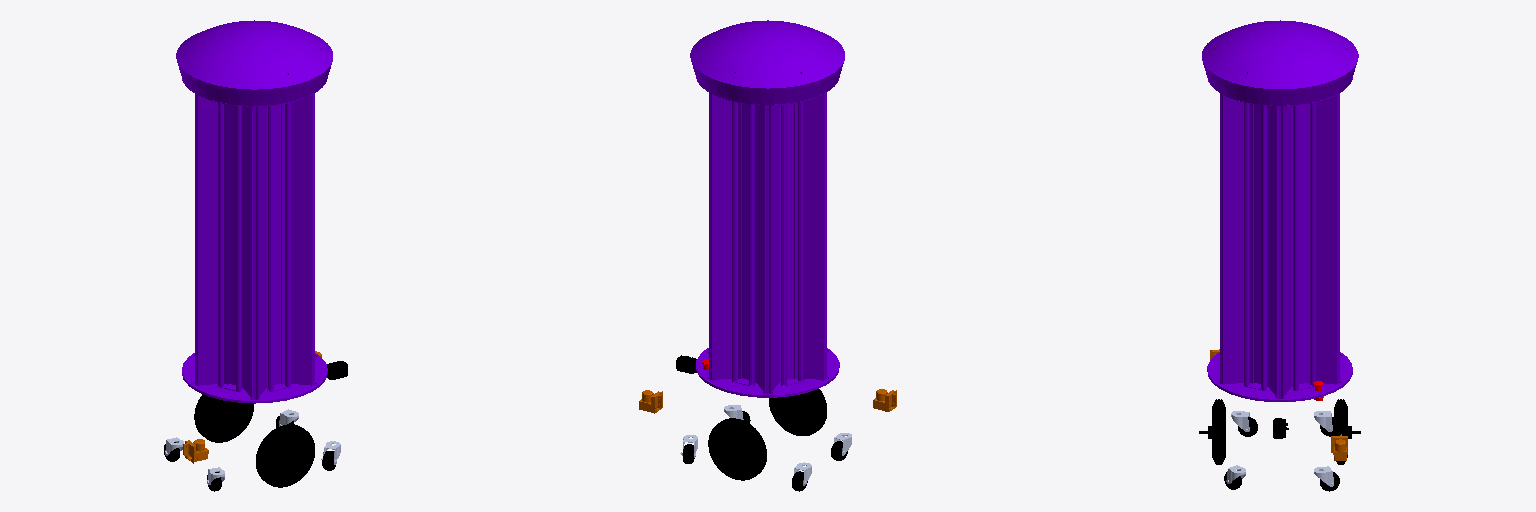
The robot description file, URDF, robot "urdf_udr_new_double":
<?xml version="1.0" encoding="utf-8"?>
<!-- This URDF was automatically created by SolidWorks to URDF Exporter! Originally created by [author] ([email redacted]) 
     Commit Version: 1.6.0-4-g7f85cfe  Build Version: 1.6.7995.38578
     For more information, please see http://wiki.ros.org/sw_urdf_exporter -->
<robot
  name="urdf_udr_new_double">
  <link
    name="base_link">
    <inertial>
      <origin
        xyz="0.0624291020769032 0.00468499263288874 0.20887348548324"
        rpy="0 0 0" />
      <mass
        value="22.1412579270583" />
      <inertia
        ixx="0.18465288175653"
        ixy="0.000675486824204511"
        ixz="0.000305317691505359"
        iyy="0.305765297745516"
        iyz="0.000871255240849521"
        izz="0.348391182314599" />
    </inertial>
    <visual>
      <origin
        xyz="0 0 0"
        rpy="0 0 0" />
      <geometry>
        <mesh
          filename="package://urdf_udr_new/meshes/base_link.STL" />
      </geometry>
      <material
        name="">
        <color
          rgba="1 1 1 1" />
      </material>
    </visual>
    <collision>
      <origin
        xyz="0 0 0"
        rpy="0 0 0" />
      <geometry>
        <mesh
          filename="package://urdf_udr_new/meshes/base_link.STL" />
      </geometry>
    </collision>
  </link>
  <link
    name="right_w">
    <inertial>
      <origin
        xyz="9.67362365766888E-08 1.17905379348748E-07 0.0385837302520066"
        rpy="0 0 0" />
      <mass
        value="1.24321467663058" />
      <inertia
        ixx="0.00585956075891878"
        ixy="-1.45942223109445E-07"
        ixz="-2.85200563415298E-11"
        iyy="0.00586012079868719"
        iyz="-1.33711172719354E-10"
        izz="0.0113529476510367" />
    </inertial>
    <visual>
      <origin
        xyz="0 0 0"
        rpy="0 0 0" />
      <geometry>
        <mesh
          filename="package://urdf_udr_new/meshes/right_w.STL" />
      </geometry>
      <material
        name="">
        <color
          rgba="0 0 0 1" />
      </material>
    </visual>
    <collision>
      <origin
        xyz="0 0 0"
        rpy="0 0 0" />
      <geometry>
        <mesh
          filename="package://urdf_udr_new/meshes/right_w.STL" />
      </geometry>
    </collision>
  </link>
  <joint
    name="J1"
    type="continuous">
    <origin
      xyz="0 -0.2698 0.12375"
      rpy="-1.5708 0 0" />
    <parent
      link="base_link" />
    <child
      link="right_w" />
    <axis
      xyz="0 0 -1" />
    <limit
      lower="0"
      upper="0"
      effort="200"
      velocity="100" />
  </joint>
  <link
    name="Left_w">
    <inertial>
      <origin
        xyz="1.4918892421445E-07 3.16596061034069E-08 0.0385837198112248"
        rpy="0 0 0" />
      <mass
        value="1.24321559312545" />
      <inertia
        ixx="0.00585963665255297"
        ixy="2.42910236931348E-07"
        ixz="-1.05800394651528E-10"
        iyy="0.00586004517577023"
        iyz="-8.66216355527152E-11"
        izz="0.0113529479149376" />
    </inertial>
    <visual>
      <origin
        xyz="0 0 0"
        rpy="0 0 0" />
      <geometry>
        <mesh
          filename="package://urdf_udr_new/meshes/Left_w.STL" />
      </geometry>
      <material
        name="">
        <color
          rgba="0 0 0 1" />
      </material>
    </visual>
    <collision>
      <origin
        xyz="0 0 0"
        rpy="0 0 0" />
      <geometry>
        <mesh
          filename="package://urdf_udr_new/meshes/Left_w.STL" />
      </geometry>
    </collision>
  </link>
  <joint
    name="J2"
    type="continuous">
    <origin
      xyz="0 0.27 0.12375"
      rpy="1.5708 0 0" />
    <parent
      link="base_link" />
    <child
      link="Left_w" />
    <axis
      xyz="0 0 -1" />
    <limit
      lower="0"
      upper="0"
      effort="200"
      velocity="100" />
  </joint>
  <link
    name="FLC">
    <inertial>
      <origin
        xyz="0.0145525050938536 0.00506500635692475 -0.0211088701906772"
        rpy="0 0 0" />
      <mass
        value="0.0210798091970502" />
      <inertia
        ixx="1.40856058366616E-05"
        ixy="6.73713319650777E-07"
        ixz="2.53769484133454E-06"
        iyy="1.2246722522495E-05"
        iyz="8.28405543332318E-07"
        izz="1.53665692142578E-05" />
    </inertial>
    <visual>
      <origin
        xyz="0 0 0"
        rpy="0 0 0" />
      <geometry>
        <mesh
          filename="package://urdf_udr_new/meshes/FLC.STL" />
      </geometry>
      <material
        name="">
        <color
          rgba="0.792156862745098 0.819607843137255 0.933333333333333 1" />
      </material>
    </visual>
    <collision>
      <origin
        xyz="0 0 0"
        rpy="0 0 0" />
      <geometry>
        <mesh
          filename="package://urdf_udr_new/meshes/FLC.STL" />
      </geometry>
    </collision>
  </link>
  <joint
    name="J3"
    type="continuous">
    <origin
      xyz="0.25 0.155 0.08145"
      rpy="0 0 1.5708" />
    <parent
      link="base_link" />
    <child
      link="FLC" />
    <axis
      xyz="0 0 -1" />
    <limit
      lower="0"
      upper="0"
      effort="0"
      velocity="0" />
  </joint>
  <link
    name="FLW">
    <inertial>
      <origin
        xyz="-2.00817450446422E-08 3.67723573257983E-08 -0.020499956881868"
        rpy="0 0 0" />
      <mass
        value="0.15374218752625" />
      <inertia
        ixx="6.77250647496595E-05"
        ixy="4.49120161059612E-11"
        ixz="4.32369909477939E-11"
        iyy="6.77250109638679E-05"
        iyz="-7.9153691267831E-11"
        izz="0.000102217238167678" />
    </inertial>
    <visual>
      <origin
        xyz="0 0 0"
        rpy="0 0 0" />
      <geometry>
        <mesh
          filename="package://urdf_udr_new/meshes/FLW.STL" />
      </geometry>
      <material
        name="">
        <color
          rgba="0 0 0 1" />
      </material>
    </visual>
    <collision>
      <origin
        xyz="0 0 0"
        rpy="0 0 0" />
      <geometry>
        <mesh
          filename="package://urdf_udr_new/meshes/FLW.STL" />
      </geometry>
    </collision>
  </link>
  <joint
    name="J4"
    type="continuous">
    <origin
      xyz="0.039294 -0.0087218 -0.0505"
      rpy="1.5708 0 0.31596" />
    <parent
      link="FLC" />
    <child
      link="FLW" />
    <axis
      xyz="0 0 -1" />
    <limit
      effort="0"
      velocity="0" />
  </joint>
  <link
    name="FRC">
    <inertial>
      <origin
        xyz="-0.00973565071117044 -0.0119432082364628 0.021108776977357"
        rpy="0 0 0" />
      <mass
        value="0.0210797647006809" />
      <inertia
        ixx="1.28947314306233E-05"
        ixy="1.10708285754622E-06"
        ixz="1.64618210253521E-06"
        iyy="1.34374615727984E-05"
        iyz="2.10145227566228E-06"
        izz="1.5366483276365E-05" />
    </inertial>
    <visual>
      <origin
        xyz="0 0 0"
        rpy="0 0 0" />
      <geometry>
        <mesh
          filename="package://urdf_udr_new/meshes/FRC.STL" />
      </geometry>
      <material
        name="">
        <color
          rgba="0.792156862745098 0.819607843137255 0.933333333333333 1" />
      </material>
    </visual>
    <collision>
      <origin
        xyz="0 0 0"
        rpy="0 0 0" />
      <geometry>
        <mesh
          filename="package://urdf_udr_new/meshes/FRC.STL" />
      </geometry>
    </collision>
  </link>
  <joint
    name="J5"
    type="continuous">
    <origin
      xyz="0.25 -0.155 0.08095"
      rpy="3.1416 0 1.5708" />
    <parent
      link="base_link" />
    <child
      link="FRC" />
    <axis
      xyz="0 0 -1" />
    <limit
      lower="0"
      upper="0"
      effort="0"
      velocity="0" />
  </joint>
  <link
    name="FRW">
    <inertial>
      <origin
        xyz="-4.17871743318976E-08 -3.05201877659478E-09 -0.020499956881867"
        rpy="0 0 0" />
      <mass
        value="0.15374218752625" />
      <inertia
        ixx="6.7724986330089E-05"
        ixy="-9.23681946444026E-12"
        ixz="8.99525470081407E-11"
        iyy="6.77250893834385E-05"
        iyz="6.57902112448154E-12"
        izz="0.000102217238167678" />
    </inertial>
    <visual>
      <origin
        xyz="0 0 0"
        rpy="0 0 0" />
      <geometry>
        <mesh
          filename="package://urdf_udr_new/meshes/FRW.STL" />
      </geometry>
      <material
        name="">
        <color
          rgba="0 0 0 1" />
      </material>
    </visual>
    <collision>
      <origin
        xyz="0 0 0"
        rpy="0 0 0" />
      <geometry>
        <mesh
          filename="package://urdf_udr_new/meshes/FRW.STL" />
      </geometry>
    </collision>
  </link>
  <joint
    name="J6"
    type="continuous">
    <origin
      xyz="-0.0052407 -0.039908 0.0505"
      rpy="1.5708 0 0.90585" />
    <parent
      link="FRC" />
    <child
      link="FRW" />
    <axis
      xyz="0 0 -1" />
    <limit
      effort="0"
      velocity="0" />
  </joint>
  <link
    name="RLC">
    <inertial>
      <origin
        xyz="0.0154061714072432 0.000292385443586451 -0.021108962602837"
        rpy="0 0 0" />
      <mass
        value="0.0210797682567391" />
      <inertia
        ixx="1.43059835869212E-05"
        ixy="5.02766015790456E-10"
        ixz="2.66950767028971E-06"
        iyy="1.20263715927633E-05"
        iyz="-1.13213563799207E-09"
        izz="1.53665753331142E-05" />
    </inertial>
    <visual>
      <origin
        xyz="0 0 0"
        rpy="0 0 0" />
      <geometry>
        <mesh
          filename="package://urdf_udr_new/meshes/RLC.STL" />
      </geometry>
      <material
        name="">
        <color
          rgba="0.792156862745098 0.819607843137255 0.933333333333333 1" />
      </material>
    </visual>
    <collision>
      <origin
        xyz="0 0 0"
        rpy="0 0 0" />
      <geometry>
        <mesh
          filename="package://urdf_udr_new/meshes/RLC.STL" />
      </geometry>
    </collision>
  </link>
  <joint
    name="J7"
    type="continuous">
    <origin
      xyz="-0.25 0.155 0.08145"
      rpy="0 0 1.5708" />
    <parent
      link="base_link" />
    <child
      link="RLC" />
    <axis
      xyz="0 0 -1" />
    <limit
      lower="0"
      upper="0"
      effort="0"
      velocity="0" />
  </joint>
  <link
    name="RLW">
    <inertial>
      <origin
        xyz="-2.01015006584537E-08 3.6808518427689E-08 -0.0204999568534652"
        rpy="0 0 0" />
      <mass
        value="0.153742188024696" />
      <inertia
        ixx="6.77250649206974E-05"
        ixy="4.4956175005754E-11"
        ixz="4.32688632504499E-11"
        iyy="6.77250110820167E-05"
        iyz="-7.92120410786504E-11"
        izz="0.000102217238364983" />
    </inertial>
    <visual>
      <origin
        xyz="0 0 0"
        rpy="0 0 0" />
      <geometry>
        <mesh
          filename="package://urdf_udr_new/meshes/RLW.STL" />
      </geometry>
      <material
        name="">
        <color
          rgba="0 0 0 1" />
      </material>
    </visual>
    <collision>
      <origin
        xyz="0 0 0"
        rpy="0 0 0" />
      <geometry>
        <mesh
          filename="package://urdf_udr_new/meshes/RLW.STL" />
      </geometry>
    </collision>
  </link>
  <joint
    name="J8"
    type="continuous">
    <origin
      xyz="0.034639 -0.0205 -0.0505"
      rpy="1.5708 0 0" />
    <parent
      link="RLC" />
    <child
      link="RLW" />
    <axis
      xyz="0 0 -1" />
    <limit
      effort="0"
      velocity="0" />
  </joint>
  <link
    name="RRC">
    <inertial>
      <origin
        xyz="0.015278775331827 0.00199752634308409 0.0211089019647416"
        rpy="0 0 0" />
      <mass
        value="0.0210797183012524" />
      <inertia
        ixx="1.42558670089239E-05"
        ixy="3.34023871060435E-07"
        ixz="-2.63975284592552E-06"
        iyy="1.20763655609628E-05"
        iyz="-3.97359188536282E-07"
        izz="1.53664914572821E-05" />
    </inertial>
    <visual>
      <origin
        xyz="0 0 0"
        rpy="0 0 0" />
      <geometry>
        <mesh
          filename="package://urdf_udr_new/meshes/RRC.STL" />
      </geometry>
      <material
        name="">
        <color
          rgba="0.792156862745098 0.819607843137255 0.933333333333333 1" />
      </material>
    </visual>
    <collision>
      <origin
        xyz="0 0 0"
        rpy="0 0 0" />usion of an arbitrary number of sensors. The nodes do not restrict the number of input sources. If, for example, your robot has multiple IMUs or multiple sources of odometry information, the state estimation nodes within robot_localization can support all of them.
      <geometry>
        <mesh
          filename="package://urdf_udr_new/meshes/RRC.STL" />
      </geometry>
    </collision>
  </link>
  <joint
    name="J9"
    type="continuous">
    <origin
      xyz="-0.25 -0.155 0.08245"
      rpy="3.1416 0 1.5708" />
    <parent
      link="base_link" />
    <child
      link="RRC" />
    <axis
      xyz="0 0 -1" />
    <limit
      lower="0"
      upper="0"
      effort="0"
      velocity="0" />
  </joint>
  <link
    name="RRW">
    <inertial>
      <origin
        xyz="-4.17871744429199E-08 -3.05201883210593E-09 0.0205000431181329"
        rpy="0 0 0" />
      <mass
        value="0.15374218752625" />
      <inertia
        ixx="6.7724986330089E-05"
        ixy="-9.23681952510909E-12"
        ixz="8.99525469488484E-11"
        iyy="6.77250893834383E-05"
        iyz="6.57902115533585E-12"
        izz="0.000102217238167678" />
    </inertial>
    <visual>
      <origin
        xyz="0 0 0"
        rpy="0 0 0" />
      <geometry>
        <mesh
          filename="package://urdf_udr_new/meshes/RRW.STL" />
      </geometry>
      <material
        name="">
        <color
          rgba="0 0 0 1" />
      </material>
    </visual>
    <collision>
      <origin
        xyz="0 0 0"
        rpy="0 0 0" />
      <geometry>
        <mesh
          filename="package://urdf_udr_new/meshes/RRW.STL" />
      </geometry>
    </collision>
  </link>
  <joint
    name="J10"
    type="continuous">
    <origin
      xyz="0.031213 0.025414 0.0505"
      rpy="1.5708 0 0.14897" />
    <parent
      link="RRC" />
    <child
      link="RRW" />
    <axis
      xyz="0 0 -1" />
    <limit
      effort="0"
      velocity="0" />
  </joint>
  <link
    name="ce30c_lidar">
    <inertial>
      <origin
        xyz="0.3526 -8.6168E-05 0.30373"
        rpy="0 0 0" />
      <mass
        value="0.16636" />
      <inertia
        ixx="0.00011326"
        ixy="-3.7341E-07"
        ixz="9.1676E-07"
        iyy="5.92E-05"
        iyz="3.6162E-08"
        izz="0.00011283" />
    </inertial>
    <visual>
      <origin
        xyz="-0.3526 8.6168E-05 -0.30373"
        rpy="0 0 0" />
      <geometry>
        <mesh
          filename="package://urdf_udr_new/meshes/3DLDR.STL" />
      </geometry>
      <material
        name="">
        <color
          rgba="0 0 0 1" />
      </material>
    </visual>
    <collision>
      <origin
        xyz="0 0 0"
        rpy="0 0 0" />
      <geometry>
        <mesh
          filename="package://urdf_udr_new/meshes/3DLDR.STL" />
      </geometry>
    </collision>
  </link>
  <joint
    name="J11"
    type="fixed">
    <origin
      xyz="0.3526 -8.6168E-05 0.30373"
      rpy="0 0 -1.5708" />
    <parent
      link="base_link" />
    <child
      link="ce30c_lidar" />
    <axis
      xyz="0.3526 -8.6168E-05 0.30373" />
  </joint>
  <link
    name="laser1">
    <inertial>
      <origin
        xyz="0.38368 0.22785 0.23437"
        rpy="0 0 0" />
      <mass
        value="0.20388" />
      <inertia
        ixx="0.00011527"
        ixy="7.2568E-08"
        ixz="2.8099E-06"
        iyy="0.00010383"
        iyz="-3.1905E-07"
        izz="6.9615E-05" />
    </inertial>
    <visual>
      <origin
        xyz="-0.38368 -0.22785 -0.23437"
        rpy="0 0 0" />
      <geometry>
        <mesh
          filename="package://urdf_udr_new/meshes/F2DLDR.STL" />
      </geometry>
      <material
        name="">
        <color
          rgba="0.8 0.4 0 1" />
      </material>
    </visual>
    <collision>
      <origin
        xyz="0 0 0"
        rpy="0 0 0" />
      <geometry>
        <mesh
          filename="package://urdf_udr_new/meshes/F2DLDR.STL" />
      </geometry>
    </collision>
  </link>
  <joint
    name="J12"
    type="fixed">
    <origin
      xyz="0.38368 0.22785 0.23437" 
      rpy="0 0 0"/> <!--changed from 0 to 1-->

    <parent
      link="base_link" />
    <child
      link="laser1" />
    <axis
      xyz="0.38368 0.22785 0.23437" />
  </joint>
  <link
    name="laser2">
    <inertial>
      <origin
        xyz="-0.38368 -0.22785 0.23437"
        rpy="0 0 0" />
      <mass
        value="0.20388" />
      <inertia
        ixx="0.00011527"
        ixy="7.2568E-08"
        ixz="-2.8099E-06"
        iyy="0.00010383"
        iyz="3.1905E-07"
        izz="6.9615E-05" />
    </inertial>
    <visual>
      <origin
        xyz="0.38368 0.22785 -0.23437"
        rpy="0 0 0" />
      <geometry>
        <mesh
          filename="package://urdf_udr_new/meshes/R2DLDR.STL" />
      </geometry>
      <material
        name="">
        <color
          rgba="0.8 0.4 0 1" />
      </material>
    </visual>
    <collision>
      <origin
        xyz="0 0 0"
        rpy="0 0 0" />
      <geometry>
        <mesh
          filename="package://urdf_udr_new/meshes/R2DLDR.STL" />
      </geometry>
    </collision>
  </link>
  <joint
    name="J13"
    type="fixed">
    <origin
      xyz="-0.38368 -0.22785 0.23437"
      rpy="0 0 3.142" />
    <parent
      link="base_link" />
    <child
      link="laser2" />
    <axis
      xyz="-0.38368 -0.22785 0.23437" />
  </joint>
  
  <link
    name="laser">
    <inertial>
      <origin
        xyz="0 0 0.23437"
        rpy="0 0 0" />
      <mass
        value="0.20388" />
      <inertia

        ixx="0.00011527"
        ixy="7.2568E-08"
        ixz="-2.8099E-06"

        iyy="0.00010383"
        iyz="3.1905E-07"
        izz="6.9615E-05" />
    </inertial>
   </link>
  <joint
    name="J17"
    type="fixed">
    <origin
      xyz="0 0 0.23437"
      rpy="0 0 0" />
    <parent
      link="base_link" />
    <child
      link="laser" />
    <axis
      xyz="0 0 0.23437" />
  </joint>
  <link
    name="imu">
    <inertial>
      <origin
        xyz="2.1406E-05 -6.7144E-05 -0.017922"
        rpy="0 0 0" />
      <mass
        value="0.087961" />
      <inertia
        ixx="5.5008E-05"
        ixy="3.1956E-07"
        ixz="-7.8956E-08"
        iyy="4.1118E-05"
        iyz="1.7149E-08"
        izz="9.0864E-05" />
    </inertial>
    <visual>
      <origin
        xyz="0 0 0"
        rpy="0 0 0" />
      <geometry>
        <mesh
          filename="package://urdf_udr_new/meshes/IMU.STL" />
      </geometry>
      <material
        name="">
        <color
          rgba="0 0 0 1" />
      </material>
    </visual>
    <collision>
      <origin
        xyz="0 0 0"
        rpy="0 0 0" />
      <geometry>
        <mesh
          filename="package://urdf_udr_new/meshes/IMU.STL" />
      </geometry>
    </collision>
  </link>
  <joint
    name="J14"
    type="fixed">
    <origin
      xyz="0 0 0.3607"
      rpy="0 0 3.1416" />
    <parent
      link="base_link" />
    <child
      link="imu" />
    <axis
      xyz="2.1406E-05 -6.7144E-05 -0.017922" />
  </joint>
  <link
    name="EMRG">
    <inertial>
      <origin
        xyz="0.18486 0.14416 0.38035"
        rpy="0 0 0" />
      <mass
        value="0.07374" />
      <inertia
        ixx="3.5962E-05"
        ixy="-9.0472E-07"
        ixz="8.2568E-11"
        iyy="3.6293E-05"
        iyz="-1.6569E-10"
        izz="1.0407E-05" />
    </inertial>
    <visual>
      <origin
        xyz="0 0 0"
        rpy="0 0 0" />
      <geometry>
        <mesh
          filename="package://urdf_udr_new/meshes/EMRG.STL" />
      </geometry>
      <material
        name="">
        <color
          rgba="1 0 0 1" />
      </material>
    </visual>
    <collision>
      <origin
        xyz="0 0 0"
        rpy="0 0 0" />
      <geometry>
        <mesh
          filename="package://urdf_udr_new/meshes/EMRG.STL" />
      </geometry>
    </collision>
  </link>
  <joint
    name="J15"
    type="fixed">
    <origin
      xyz="0 0 0"
      rpy="0 0 0" />
    <parent
      link="base_link" />
    <child
      link="EMRG" />
    <axis
      xyz="0 0 0" />
  </joint>
  <link
    name="LMPTWR">
    <inertial>
      <origin
        xyz="0 0 0"
        rpy="0 0 0" />
      <mass
        value="0" />
      <inertia
        ixx="3.5962E-05"
        ixy="-9.0472E-07"
        ixz="8.2568E-11"
        iyy="3.6293E-05"
        iyz="-1.6569E-10"
        izz="1.0407E-05" />
    </inertial>
    <visual>
      <origin
        xyz="0 0 0"
        rpy="0 0 0" />
      <geometry>
        <mesh
          filename="package://urdf_udr_new/meshes/LMPTWR.STL" />
      </geometry>
      <material
        name="">
        <color
          rgba="0.5 0 0.9 1" />
      </material>
    </visual>
    <collision>
      <origin
        xyz="0 0 0"
        rpy="0 0 0" />
      <geometry>
        <mesh
          filename="package://urdf_udr_new/meshes/LMPTWR.STL" />
      </geometry>
    </collision>
  </link>
  <joint
    name="J16"
    type="fixed">
    <origin
      xyz="0 0 0"
      rpy="0 0 0" />
    <parent
      link="base_link" />
    <child
      link="LMPTWR" />
    <axis
      xyz="0 0 0" />
  </joint>
</robot>

--- Render facts (derived) ---
Views: 3 orthographic renders of the robot side by side, from view 1: azimuth 30°, elevation 25°; view 2: azimuth 150°, elevation 25°; view 3: azimuth 270°, elevation 25°.
Robot: urdf_udr_new_double — 18 links, 17 joints (10 continuous, 7 fixed); root link base_link; default pose: every joint at zero.
Links seen in each view (by area): view 1: LMPTWR, right_w, Left_w; view 2: LMPTWR, Left_w, right_w; view 3: LMPTWR, right_w, Left_w.
Link boxes in pixels (x1,y1,x2,y2): LMPTWR: (176,20,332,403); right_w: (256,424,314,487); Left_w: (194,394,253,442); LMPTWR: (690,20,844,397); Left_w: (708,418,766,480); right_w: (769,389,826,435); LMPTWR: (1202,20,1358,401); right_w: (1199,399,1225,464); Left_w: (1334,399,1360,464).
Bounding box of the posed robot: 0.8594 × 0.6128 × 1.8 m (x, y, z).
Meshes: 17 distinct files referenced, 16 mesh visuals loaded (16 binary STL); not drawn: 1 (reference not matched to a file when rendering).